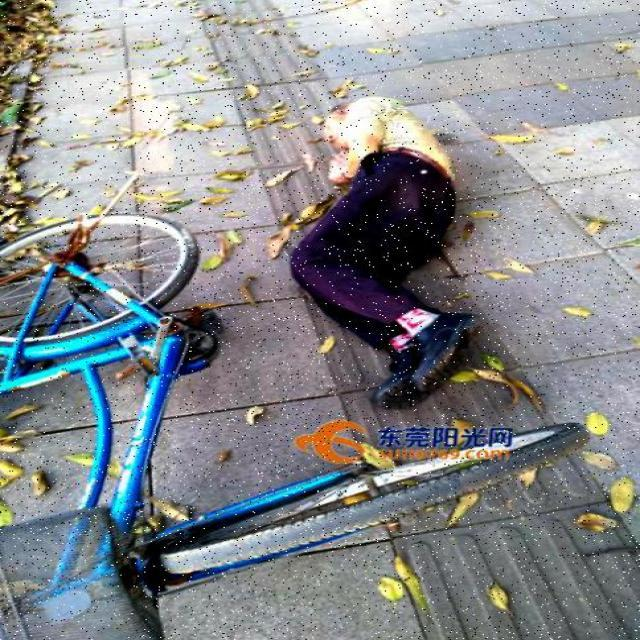fall: (306, 94, 478, 393)
